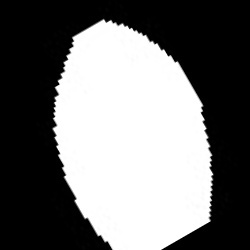spot: (53, 19, 212, 247)
